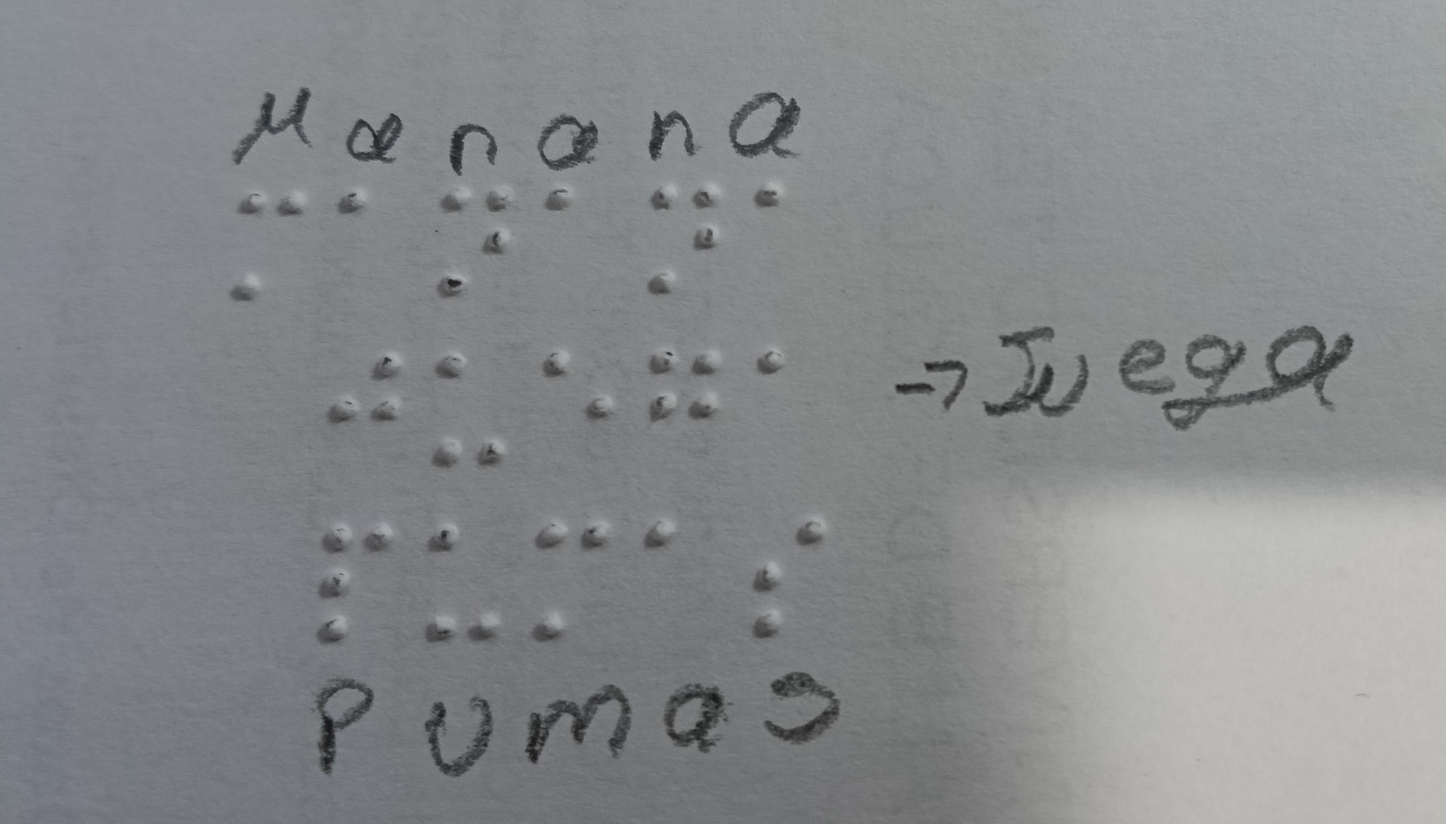a: (741, 162, 812, 242), (623, 498, 686, 574), (318, 158, 383, 222), (530, 176, 590, 231), (741, 340, 797, 385)
e: (532, 334, 621, 436)
g: (643, 336, 728, 445)
j: (332, 343, 405, 438)
m: (207, 167, 318, 305), (525, 514, 617, 645)
n: (439, 178, 521, 309), (643, 171, 719, 289)
p: (312, 489, 398, 645)
s: (741, 503, 844, 654)
u: (418, 512, 503, 654), (423, 349, 512, 478)
